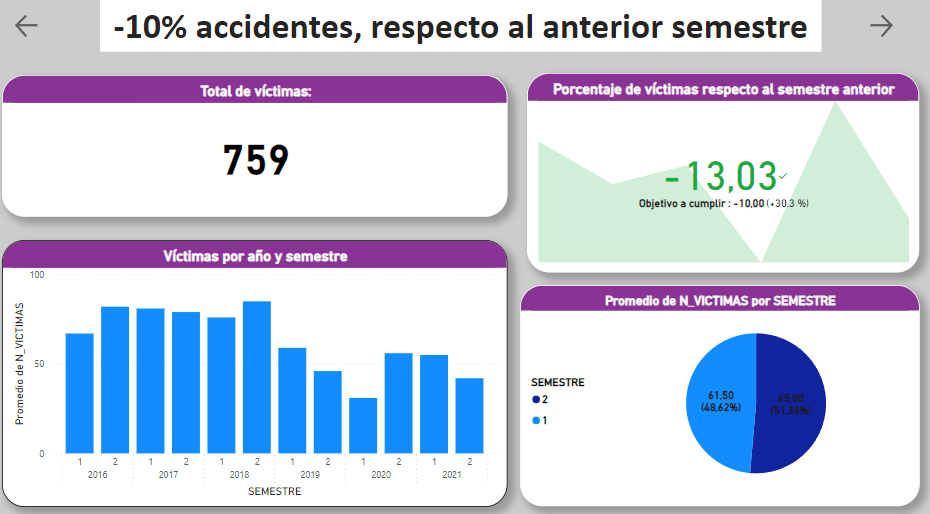

The dashboard page shown, as its layout file describes it:
{"tool":"powerbi","page":{"name":"KPI 1","canvas":[1280,720],"ordinal":2},"visuals":[{"type":"textbox","box":[158.3,13.8,962.1,68.8],"z":0},{"type":"card","title":"Total de víctimas:","fields":{"Values":["Sum(df_kpi_1.N_VICTIMAS)"]},"box":[27.5,112.9,674.4,188.6],"z":1},{"type":"pieChart","title":"Víctimas por semestre","fields":{"Category":["df_kpi_1.SEMESTRE"],"Y":["Avg(df_kpi_1.N_VICTIMAS)"]},"box":[718.5,393.6,532.6,294.5],"z":4},{"type":"columnChart","title":"Víctimas por año y semestre","fields":{"Category":["df_kpi_1.AÑO","df_kpi_1.SEMESTRE"],"Y":["Avg(df_kpi_1.N_VICTIMAS)"]},"box":[27.5,333.1,674.4,356.5],"z":5},{"type":"kpi","title":"Porcentaje de víctimas respecto al semestre anterior","fields":{"Indicator":["Avg(df_kpi_1.VARIACION_TASA)"],"TrendLine":["df_kpi_1.AÑO"],"Goal":["df_kpi_1.Objetivo"]},"box":[728.1,110.1,523,265.6],"z":6},{"type":"actionButton","box":[1179.5,27.5,100.5,39.9],"z":7},{"type":"actionButton","box":[41.3,27.5,100.5,39.9],"z":8}]}

Visuals, with their boxes in screenshot pixels (x1, y1, x2, y2), scaled from the page's 1280x720 canvas onto the 930x514 screenshot:
textbox: [x1=115, y1=10, x2=814, y2=59]
"Total de víctimas:" card: [x1=20, y1=81, x2=510, y2=215]
"Víctimas por semestre" pieChart: [x1=522, y1=281, x2=909, y2=491]
"Víctimas por año y semestre" columnChart: [x1=20, y1=238, x2=510, y2=492]
"Porcentaje de víctimas respecto al semestre anterior" kpi: [x1=529, y1=79, x2=909, y2=268]
actionButton: [x1=857, y1=20, x2=929, y2=48]
actionButton: [x1=30, y1=20, x2=103, y2=48]
